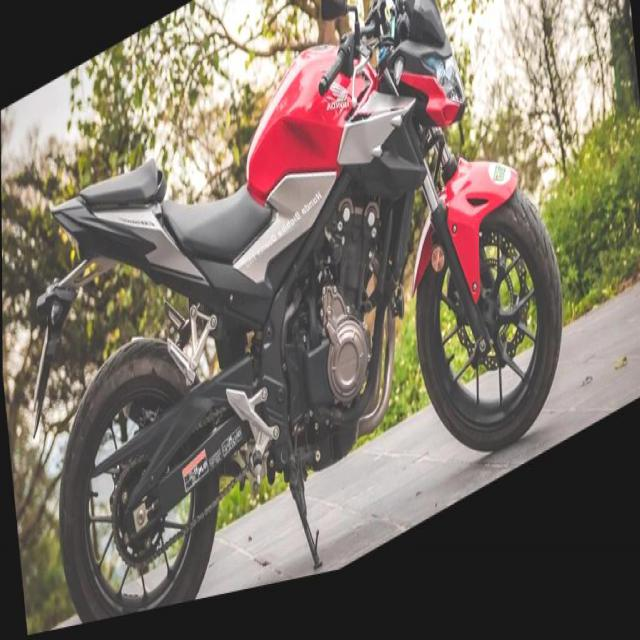CB500F: (20, 0, 572, 635)
